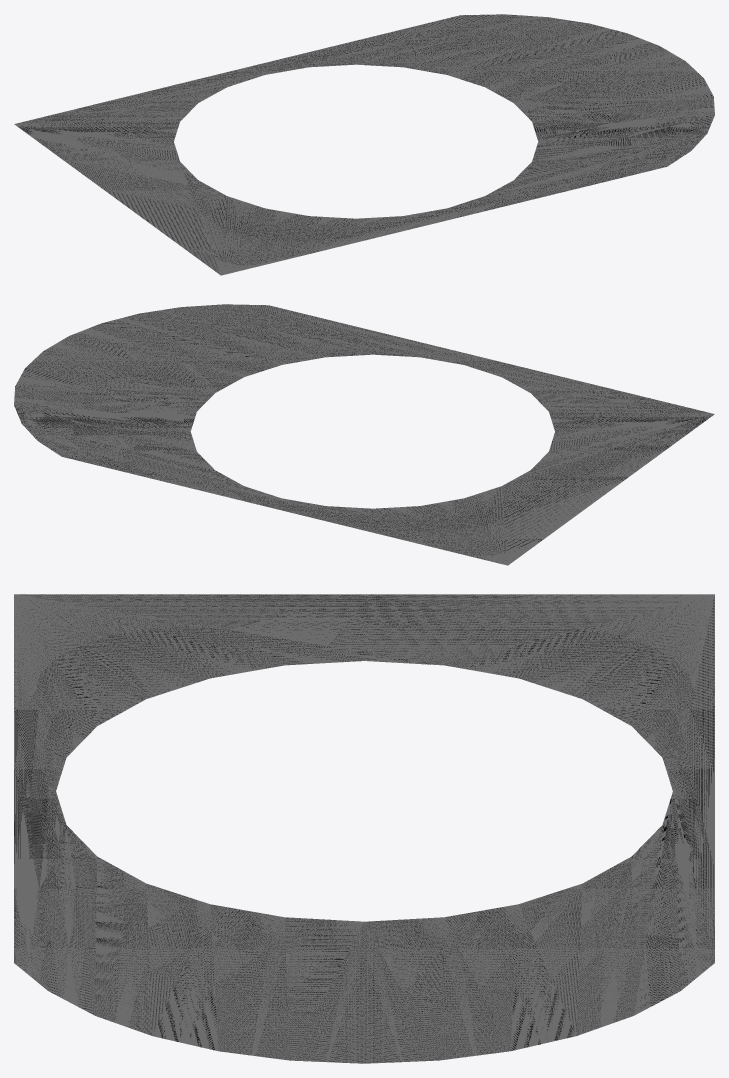
Rendered from original-53.obj.
3 renders of one model, top to bottom at view 1: azimuth 30°, elevation 25°; view 2: azimuth 150°, elevation 25°; view 3: azimuth 270°, elevation 25°, orthographic. The views are drawn at different scales.
Visible parts, largest first — view 1: mesh20/mesh20-geometry/material_3/component_2#mesh20-geometry; view 2: mesh20/mesh20-geometry/material_3/component_2#mesh20-geometry; view 3: mesh20/mesh20-geometry/material_3/component_2#mesh20-geometry.
Boxes of the visible parts, x1,y1,x2,y2 form: mesh20/mesh20-geometry/material_3/component_2#mesh20-geometry: (14, 14, 714, 275); mesh20/mesh20-geometry/material_3/component_2#mesh20-geometry: (14, 304, 714, 565); mesh20/mesh20-geometry/material_3/component_2#mesh20-geometry: (14, 594, 714, 1063).
Size of the model in its own units: 0.1601 by 0 by 0.101.
